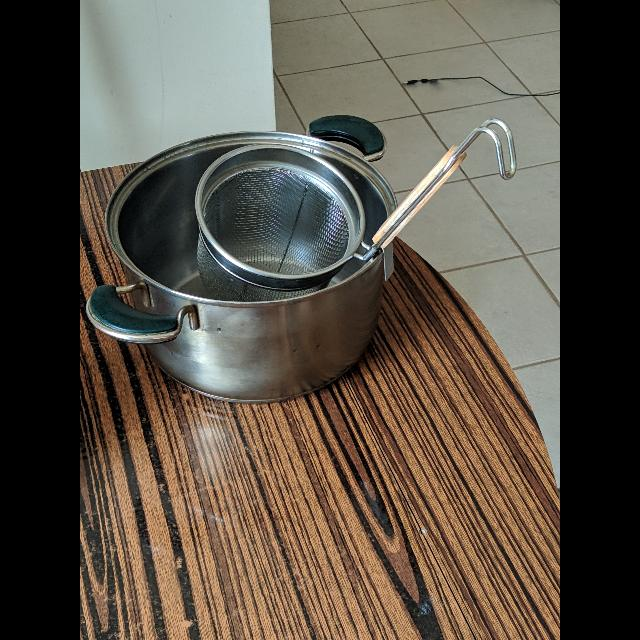Handle: (366, 111, 521, 267)
Strainer: (194, 148, 366, 275)
